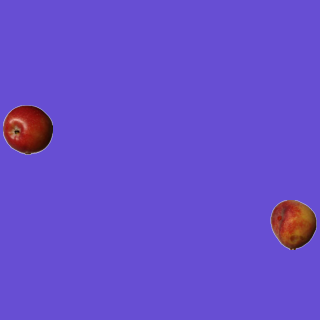Apple Braeburn: (2, 104, 52, 154)
Peach: (268, 199, 318, 249)
